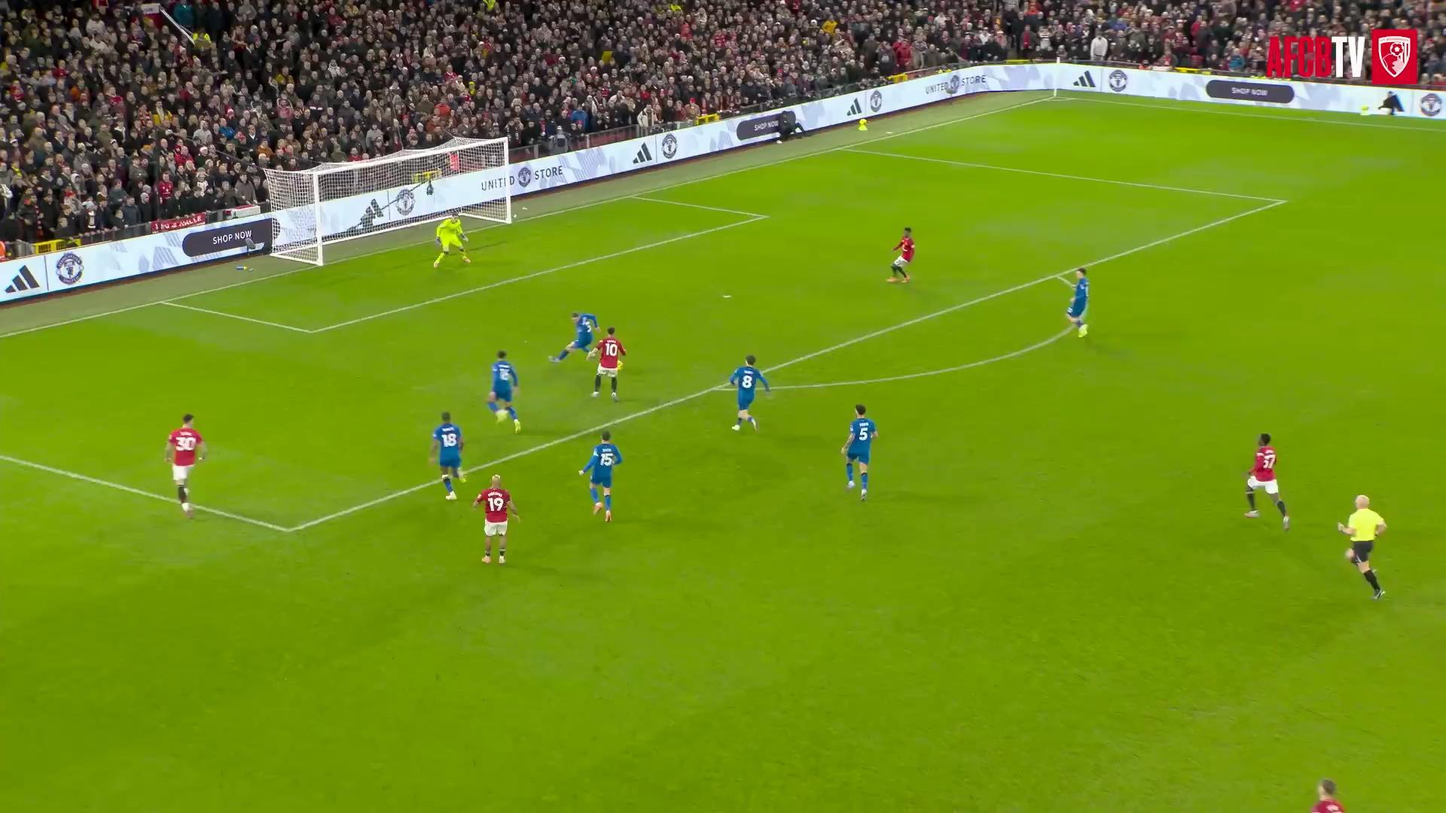player: (1245, 433, 1289, 530), (165, 414, 206, 517), (473, 475, 520, 564), (579, 431, 622, 521), (840, 404, 877, 500), (729, 355, 770, 431), (430, 412, 465, 500), (589, 327, 626, 401), (488, 351, 520, 432), (549, 312, 597, 361), (433, 216, 471, 267), (1066, 267, 1088, 337), (886, 227, 914, 282), (1311, 778, 1344, 812)
referee: (1338, 495, 1387, 598)
